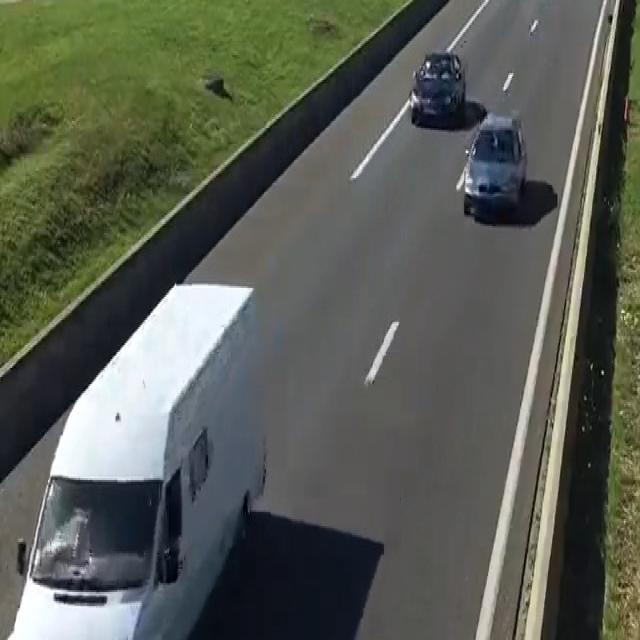car: (386, 10, 512, 154), (463, 148, 529, 238)
van: (38, 262, 259, 640)
